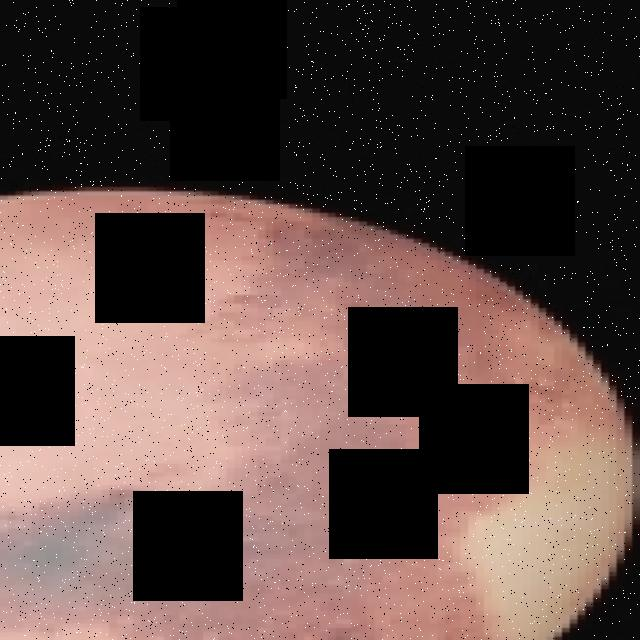Mars: (0, 186, 632, 640)
